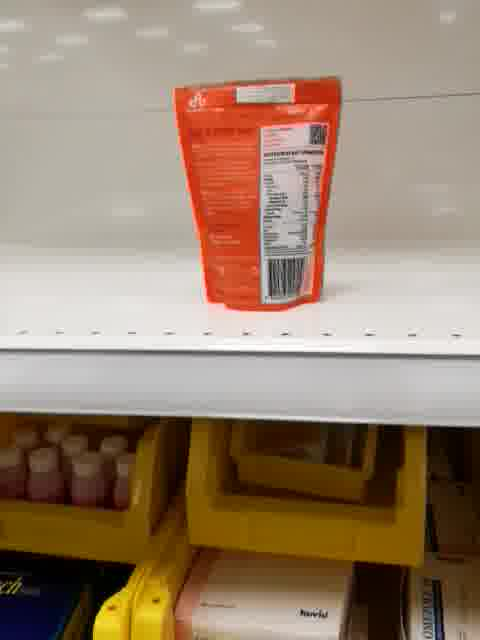whitechia: (172, 73, 346, 318)
